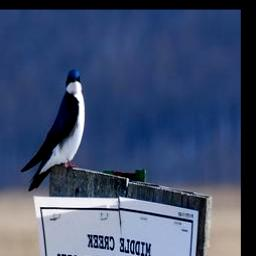Swallow: (22, 66, 87, 190)
